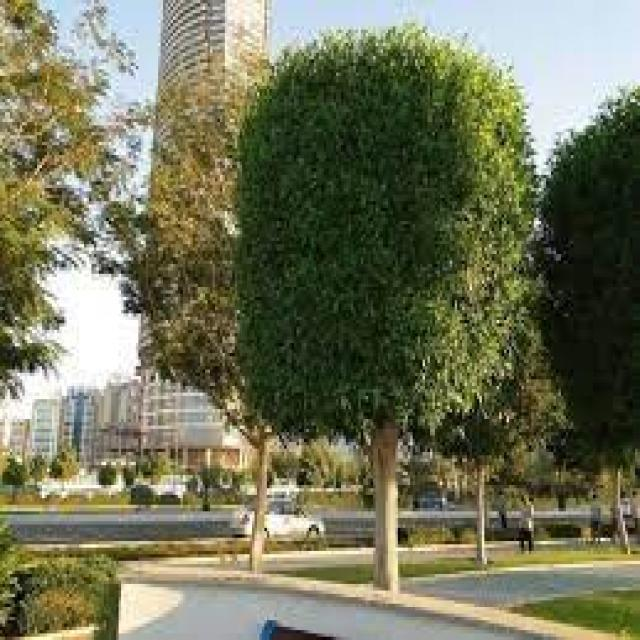tree: (237, 33, 531, 591), (134, 46, 322, 568), (2, 4, 136, 422), (536, 85, 640, 548)
